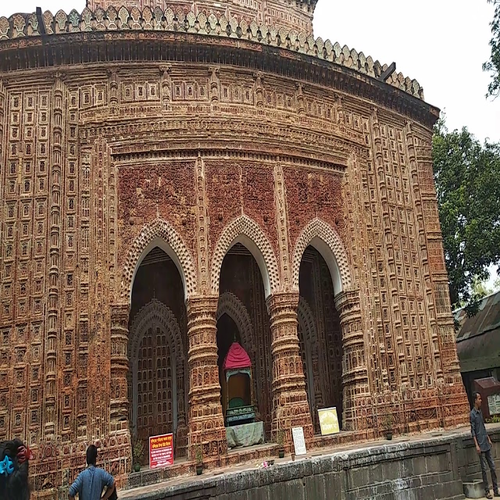Temple: (9, 8, 478, 467)
